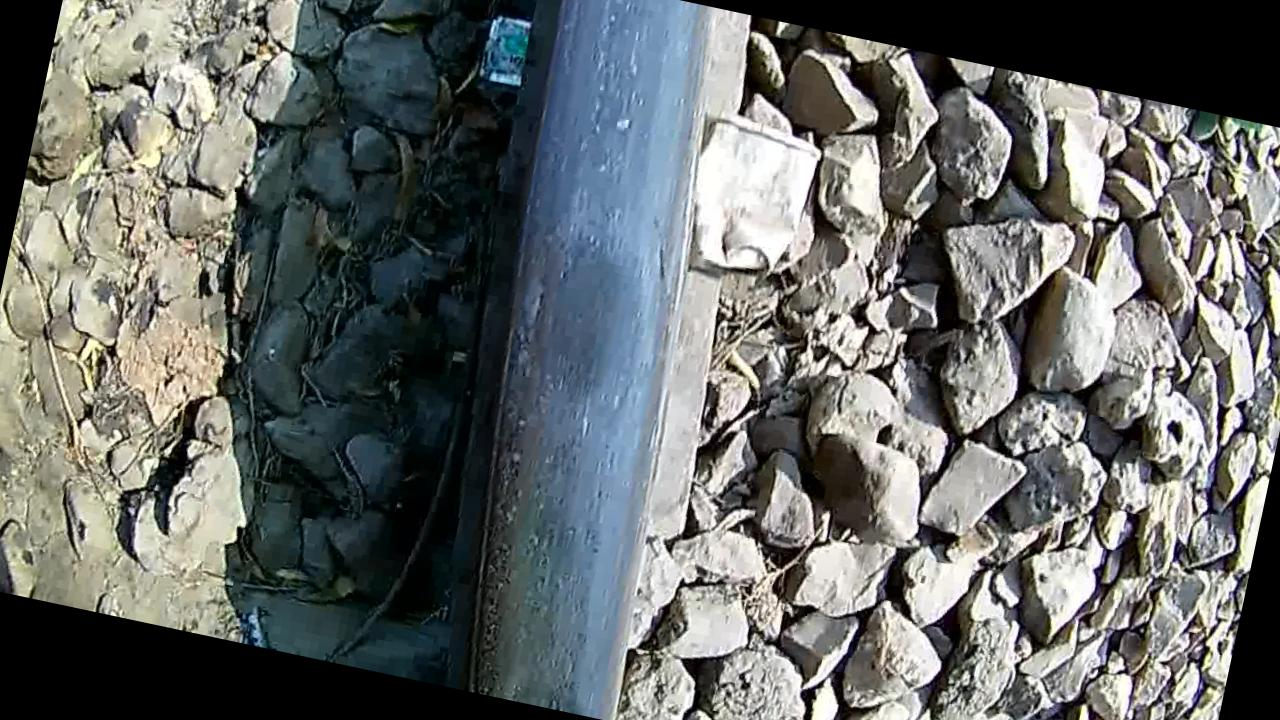bolt_missing: (444, 168, 681, 580)
